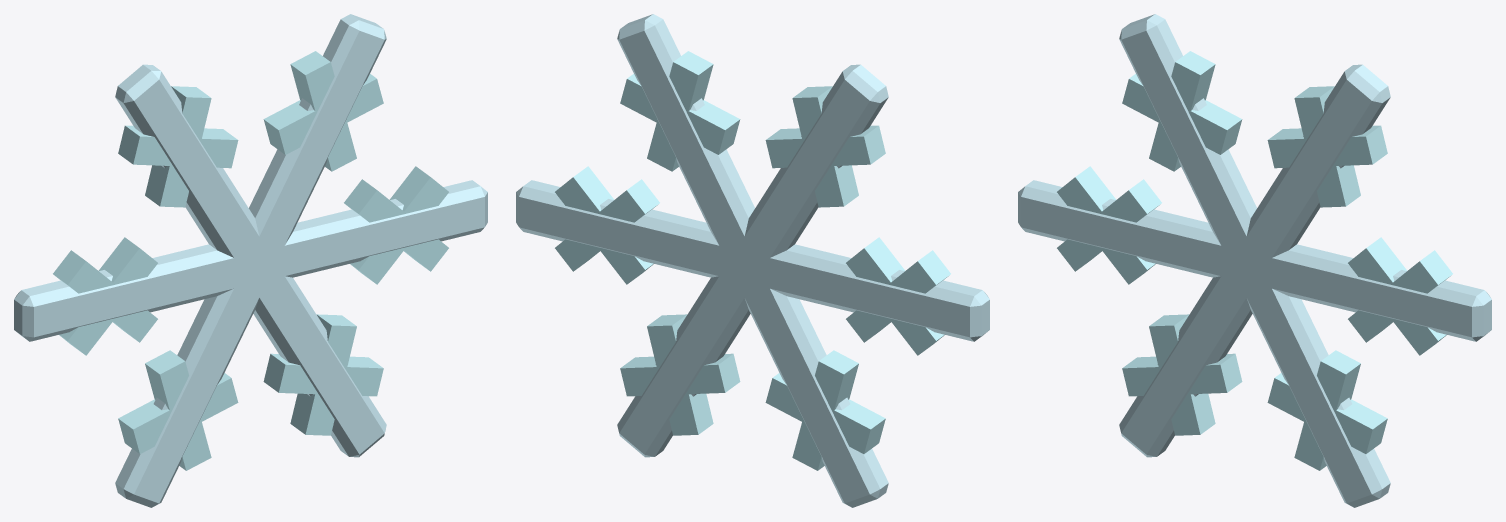
The model's file is Snowflake.fbx.
3 renders of one model, left to right at view 1: azimuth 30°, elevation 25°; view 2: azimuth 150°, elevation 25°; view 3: azimuth 330°, elevation 25°, orthographic.
Visible parts, largest first — view 1: Snowflake; view 2: Snowflake; view 3: Snowflake.
Part boxes in pixels (x1=…): Snowflake: x1=14, y1=14, x2=487, y2=507; Snowflake: x1=516, y1=14, x2=989, y2=507; Snowflake: x1=1018, y1=14, x2=1491, y2=507.
Bounding box in the file's own units: 3.2 × 2.87 × 0.2.
1 material, 1 textured.
